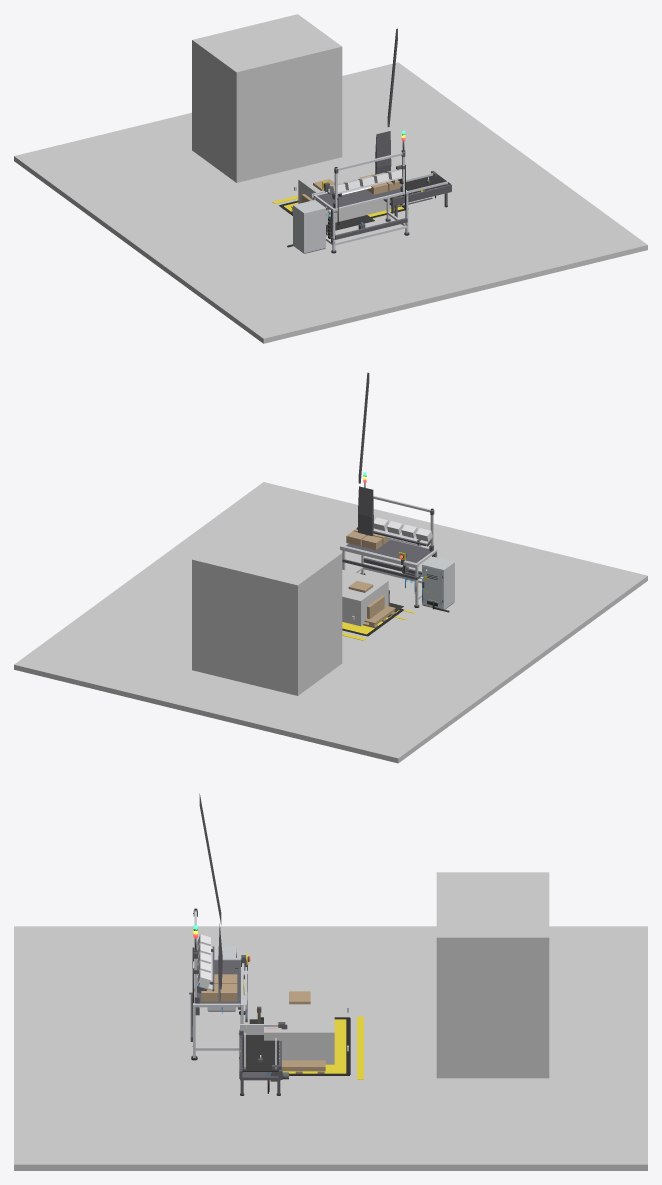
Rendered from loading_station.glb.
3 views of the same model, one above another, from view 1: azimuth 30°, elevation 25°; view 2: azimuth 150°, elevation 25°; view 3: azimuth 270°, elevation 25° (orthographic). The views are drawn at different scales.
Parts seen in each view (by area): view 1: PHYS_Review_FloorPatch, TRIGGER_Info_Loading, STATION_01_Loading_PalletArrivalZone, STATION_01_Loading_Cabinet, STATION_01_Loading_TopStiffener, STATION_01_Loading_HMI; view 2: PHYS_Review_FloorPatch, TRIGGER_Info_Loading, STATION_01_Loading_PalletArrivalZone, STATION_01_Loading_Cabinet, STATION_01_Loading_TopStiffener, STATION_01_Loading_HMI, STATION_01_Loading_CabinetDoor; view 3: PHYS_Review_FloorPatch, TRIGGER_Info_Loading, STATION_01_Loading_PalletArrivalZone, CONVEYOR_Loading_Output, STATION_01_Loading_PalletZone, STATION_01_Loading_TopStiffener.
Boxes of the visible parts, x1,y1,x2,y2 form: PHYS_Review_FloorPatch: (14, 62, 647, 343); TRIGGER_Info_Loading: (192, 14, 342, 182); STATION_01_Loading_PalletArrivalZone: (298, 164, 391, 224); STATION_01_Loading_Cabinet: (293, 200, 325, 253); STATION_01_Loading_TopStiffener: (317, 188, 400, 207); STATION_01_Loading_HMI: (375, 131, 391, 174); PHYS_Review_FloorPatch: (14, 482, 647, 763); TRIGGER_Info_Loading: (192, 527, 342, 695); STATION_01_Loading_PalletArrivalZone: (342, 569, 388, 626); STATION_01_Loading_Cabinet: (422, 556, 454, 609); STATION_01_Loading_TopStiffener: (346, 540, 431, 562); STATION_01_Loading_HMI: (358, 486, 373, 536); STATION_01_Loading_CabinetDoor: (422, 566, 442, 606); PHYS_Review_FloorPatch: (14, 926, 647, 1170); TRIGGER_Info_Loading: (436, 872, 549, 1078); STATION_01_Loading_PalletArrivalZone: (264, 991, 334, 1064); CONVEYOR_Loading_Output: (242, 1035, 278, 1071); STATION_01_Loading_PalletZone: (282, 1019, 346, 1073); STATION_01_Loading_TopStiffener: (197, 960, 240, 1003).
Size of what is drawn, in the model's own units: 8 by 4.2 by 9.
